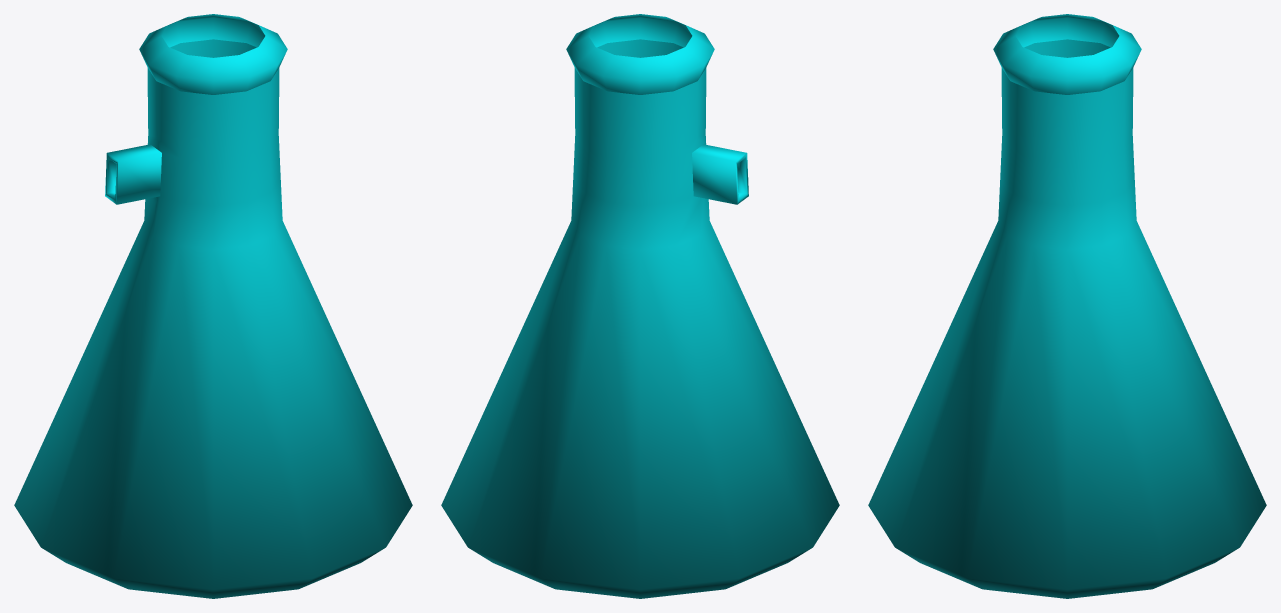
Rendered from BeckerLongo.fbx.
The picture shows the model from 3 angles, left to right: view 1: azimuth 30°, elevation 25°; view 2: azimuth 150°, elevation 25°; view 3: azimuth 270°, elevation 25°; orthographic projection.
Parts seen in each view (by area): view 1: BeckerLongo; view 2: BeckerLongo; view 3: BeckerLongo.
Boxes of the visible parts, left/top/right/bottom form: BeckerLongo: left=14, top=14, right=412, bottom=598; BeckerLongo: left=441, top=14, right=839, bottom=598; BeckerLongo: left=868, top=14, right=1266, bottom=598.
Size of the model in its own units: 39.02 by 55.85 by 39.02.
Materials: 1 (1 with a texture image).
